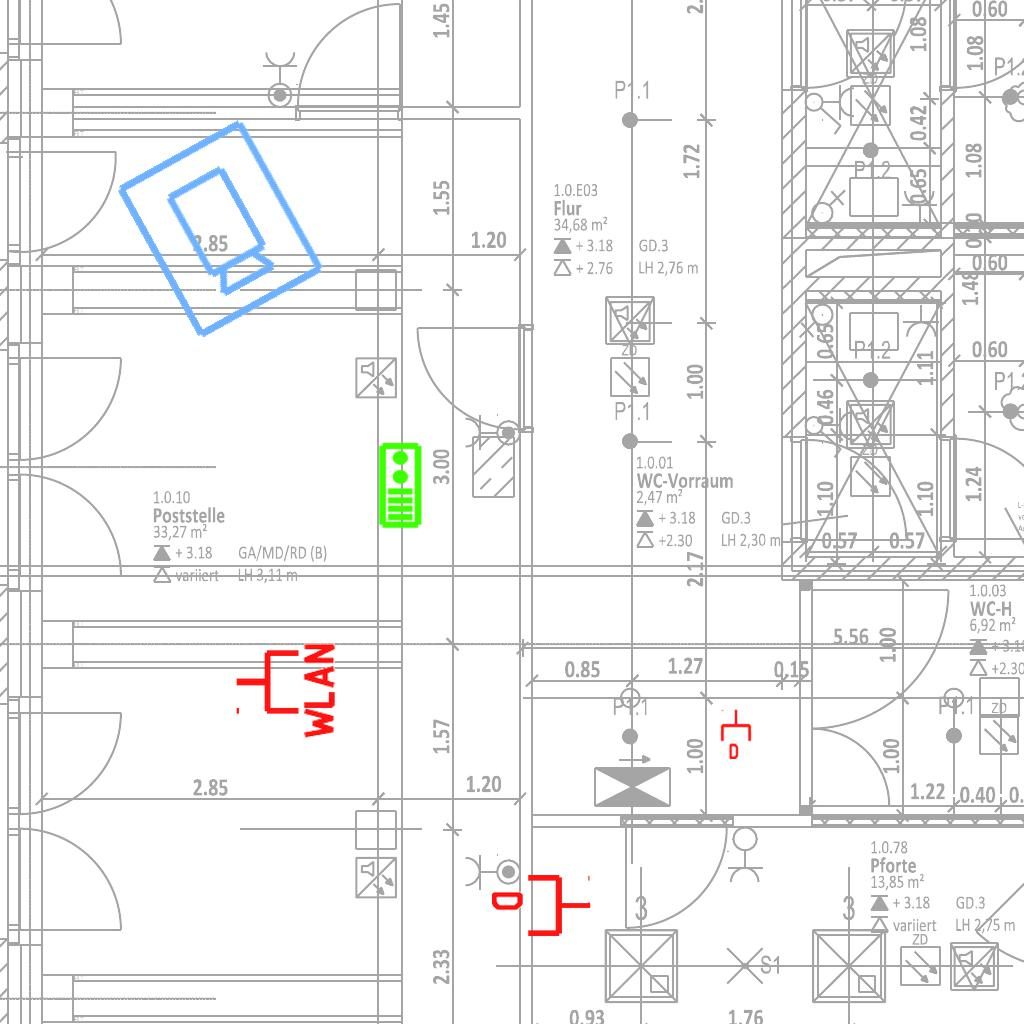Datenanschluss_einfach: (492, 871, 592, 940), (719, 709, 753, 759)
Gegensprechanlage_mit_Video: (376, 441, 423, 529)
KFO_Kamera_mit_Festobjektiv: (107, 112, 331, 346)
WLAN: (232, 639, 337, 743)
